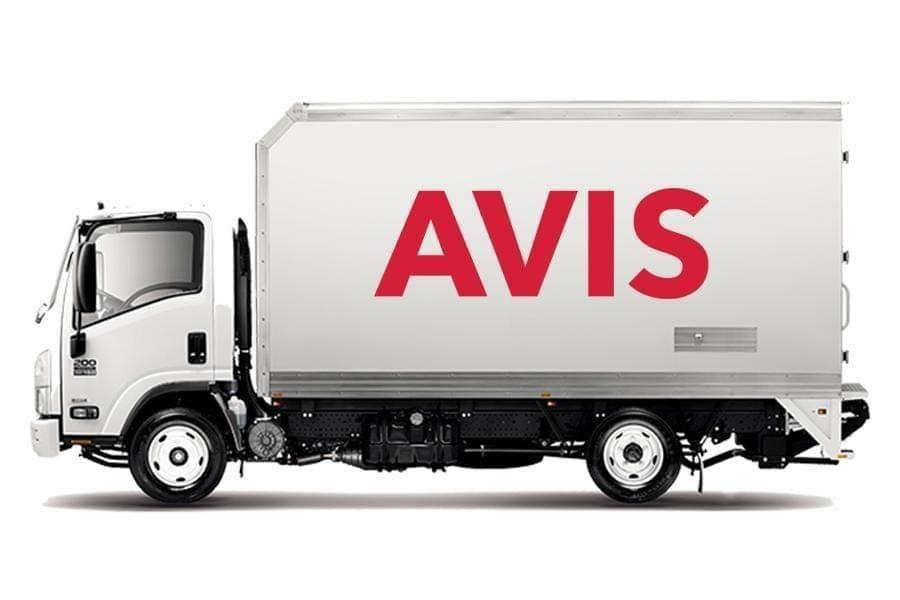truck: (28, 99, 866, 506)
